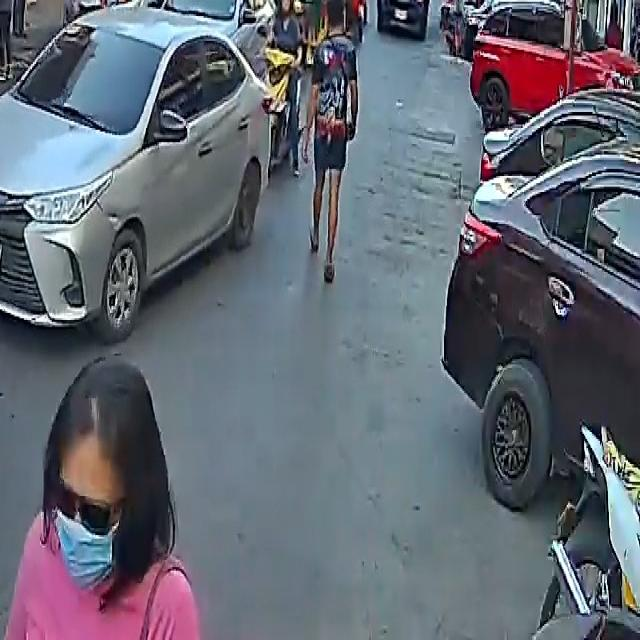car: (0, 0, 291, 338), (445, 74, 640, 530), (468, 0, 639, 126), (159, 0, 274, 52), (374, 0, 432, 32), (79, 0, 194, 14)
